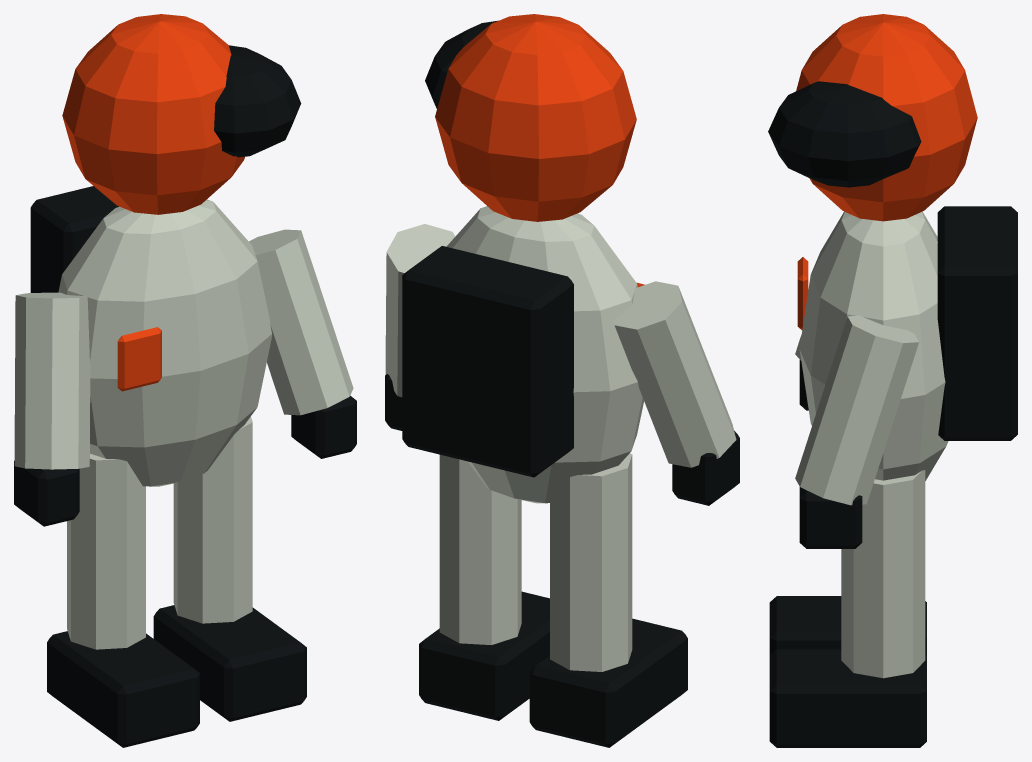
The model's file is SM_MP_Jummt_Suit.fbx.
3 views of the same model, side by side, from view 1: azimuth 30°, elevation 25°; view 2: azimuth 150°, elevation 25°; view 3: azimuth 270°, elevation 25° (orthographic). The views are drawn at different scales.
Visible parts, largest first — view 1: SM_MP_Jummt_Suit; view 2: SM_MP_Jummt_Suit; view 3: SM_MP_Jummt_Suit.
Boxes of the visible parts, x1,y1,x2,y2 form: SM_MP_Jummt_Suit: [14, 14, 356, 747]; SM_MP_Jummt_Suit: [385, 14, 739, 747]; SM_MP_Jummt_Suit: [768, 14, 1017, 747].
Size of the model in its own units: 111 by 71.5 by 215.
1 material, 1 textured.
